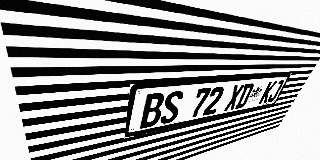2: (203, 86, 225, 116)
7: (188, 87, 212, 119)
B: (140, 92, 166, 129)
D: (234, 83, 255, 109)
J: (266, 80, 285, 103)
K: (258, 81, 277, 104)
S: (159, 90, 184, 125)
X: (223, 84, 245, 111)
